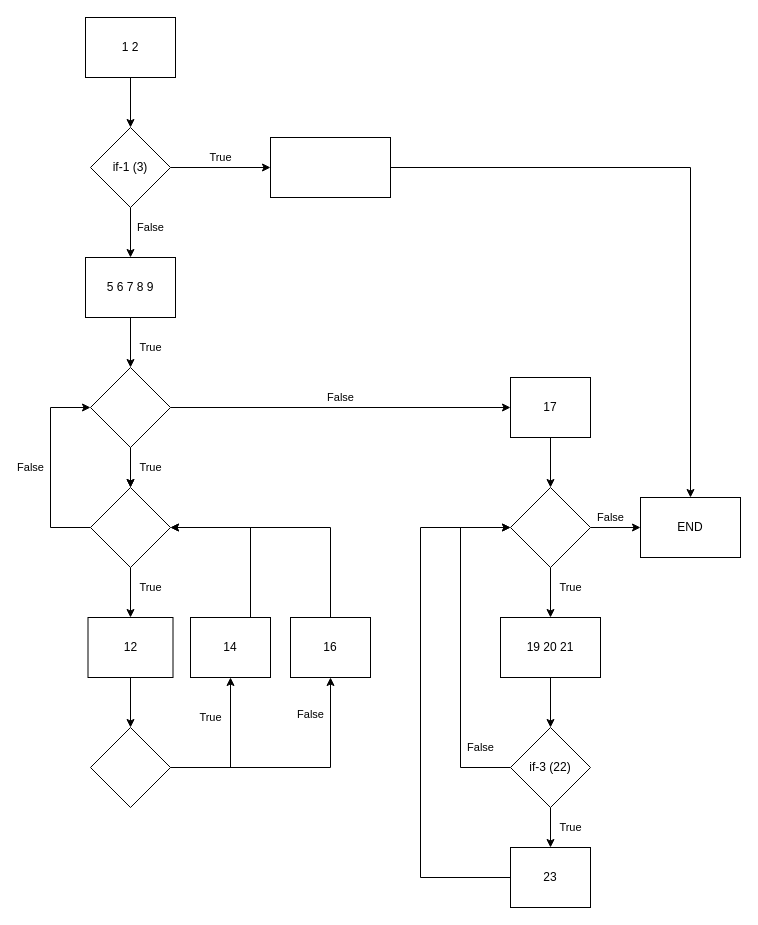
The diagram is 758 pixels wide and 925 high, and some of its shapes have lost their labels. Each missing label, with the centre of its shape:
"EventNotFinised Exception" belongs at pixel 330 167.
"for-1 (10)" belongs at pixel 130 407.
"for-2 (11)" belongs at pixel 130 527.
"for-3 (18)" belongs at pixel 550 527.
"if-2 (13)" belongs at pixel 130 767.
